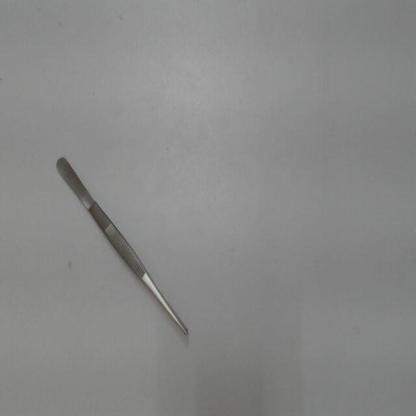Gillies Toothed Dissector: (49, 137, 197, 348)
